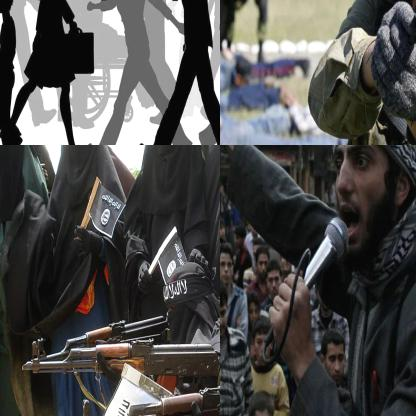pistol: (407, 0, 415, 41)
rifle: (21, 340, 219, 404), (37, 306, 173, 352), (70, 386, 219, 415)
